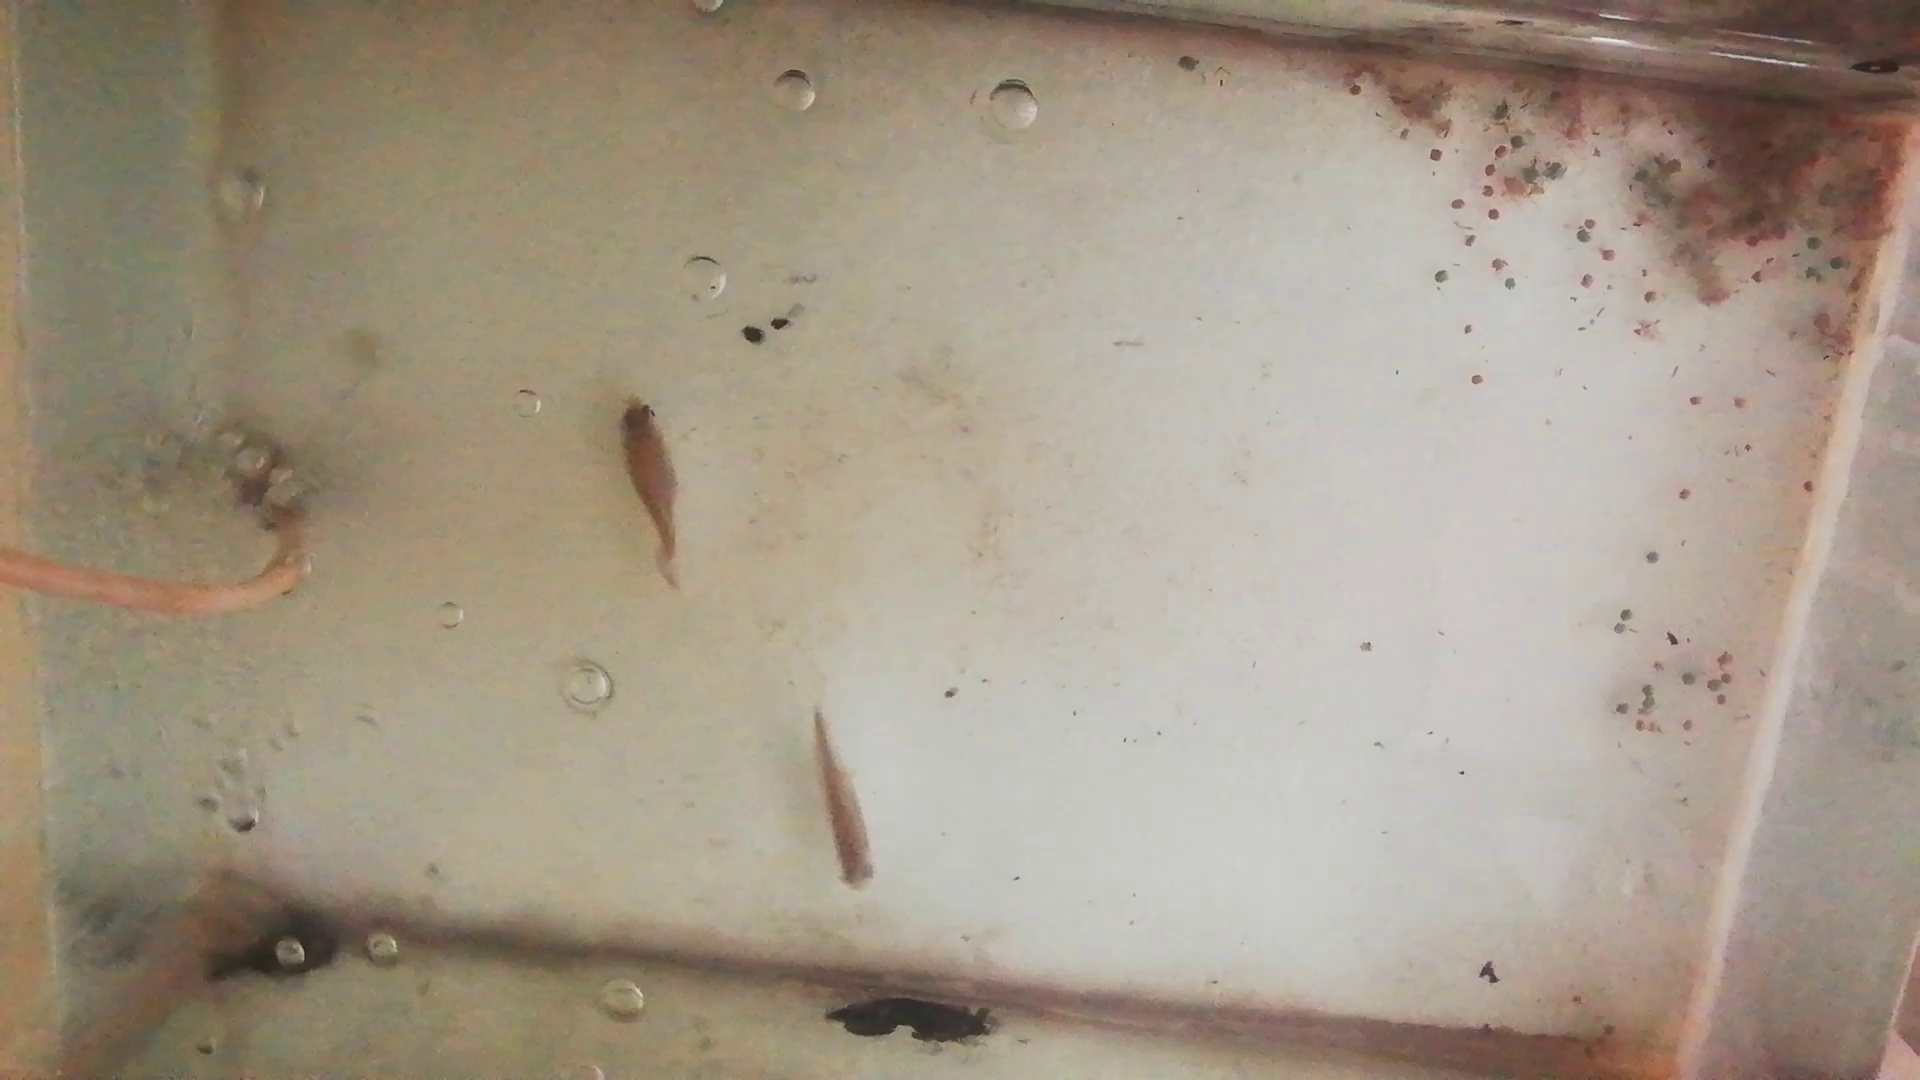fish: (804, 709, 880, 895), (615, 390, 684, 553)
